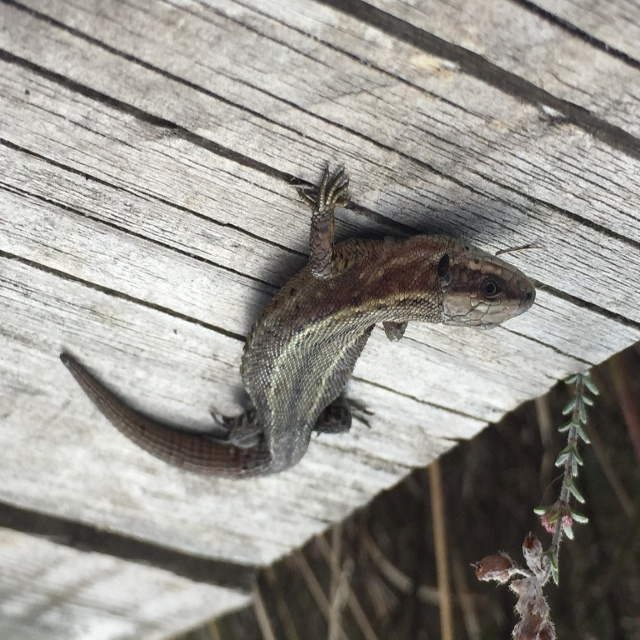Lizard: (35, 180, 540, 491)
